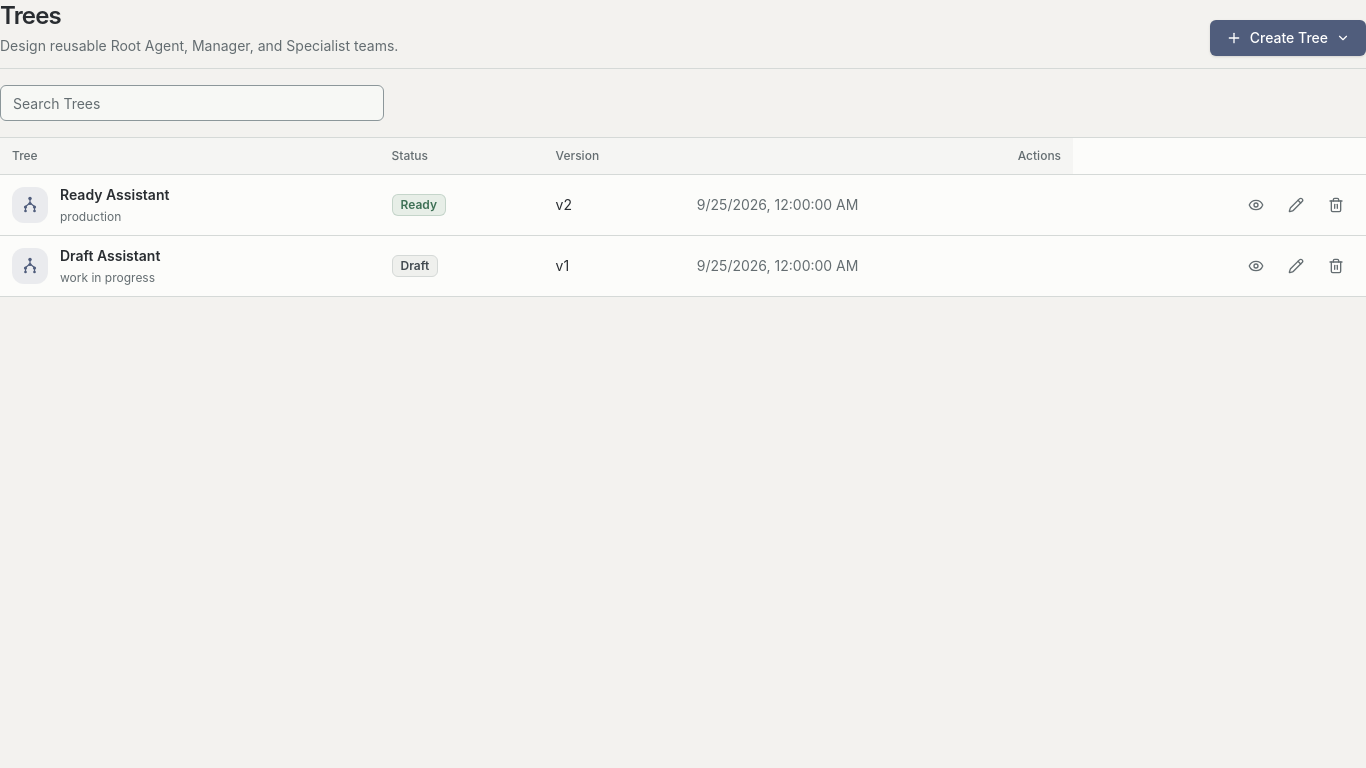
Scenario: Tree list › requires explicit confirmation and Cancel makes no deletion request
Click the button named "Delete" in the row of "Ready Assistant" at (1336, 204), box [1318,186,1354,222]
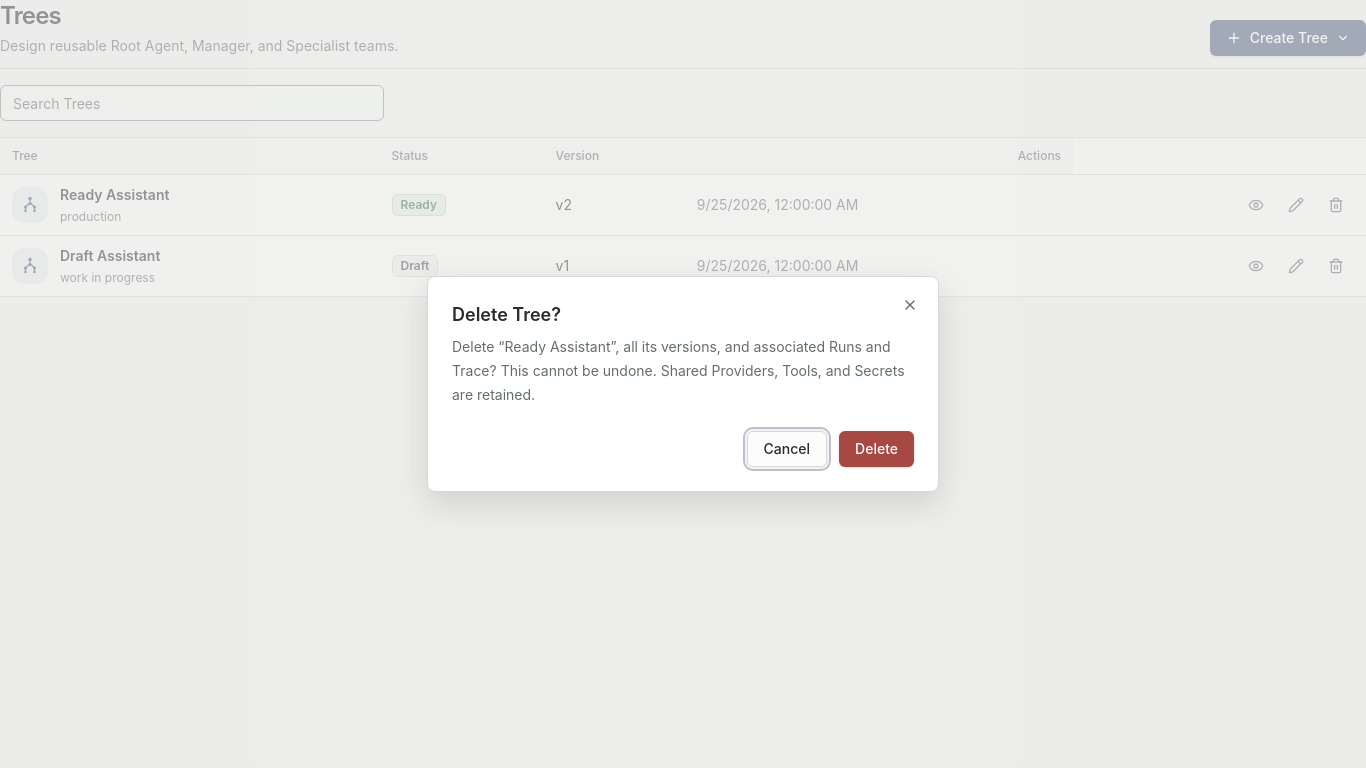
Check: the text "associated Runs and Trace" is shown, box [452,338,905,403]
Click the button "Cancel" at (787, 449), box [747,431,827,467]
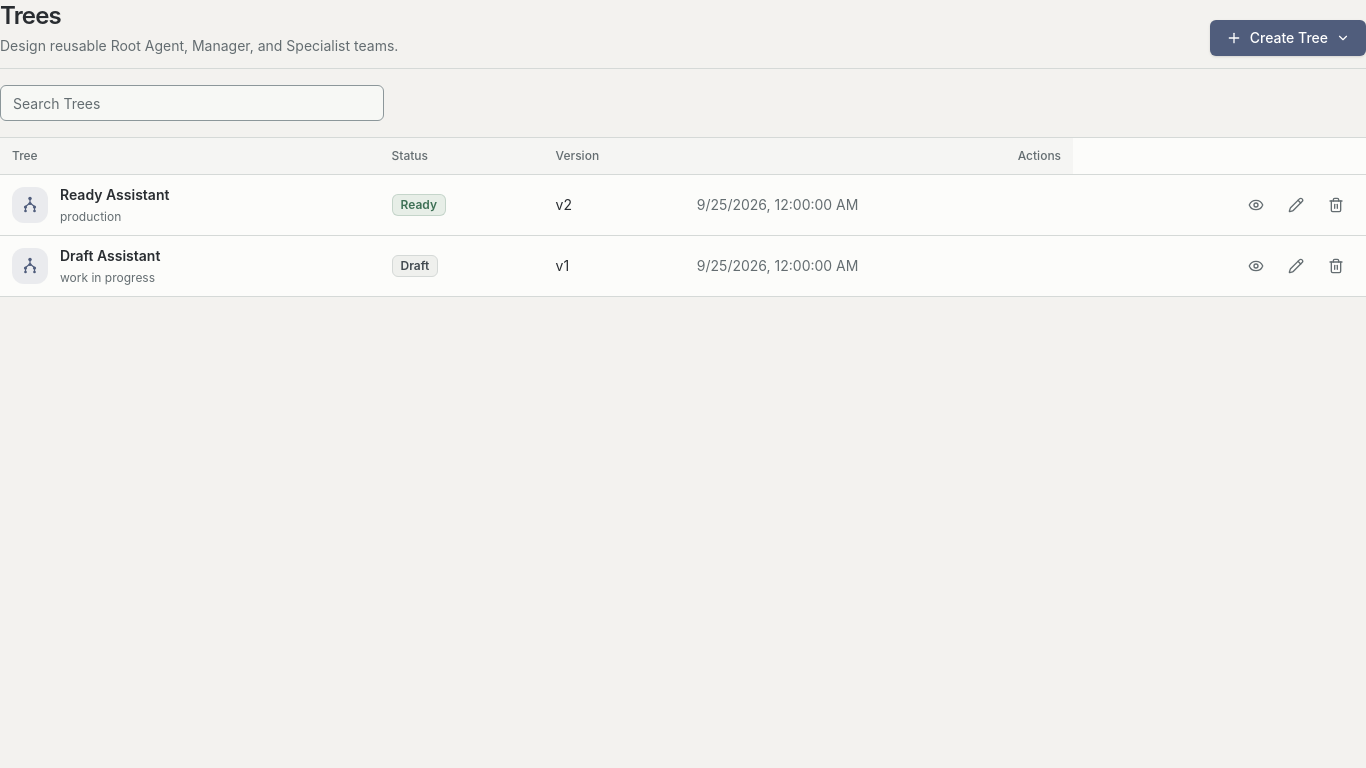
Check: the dialog is gone
